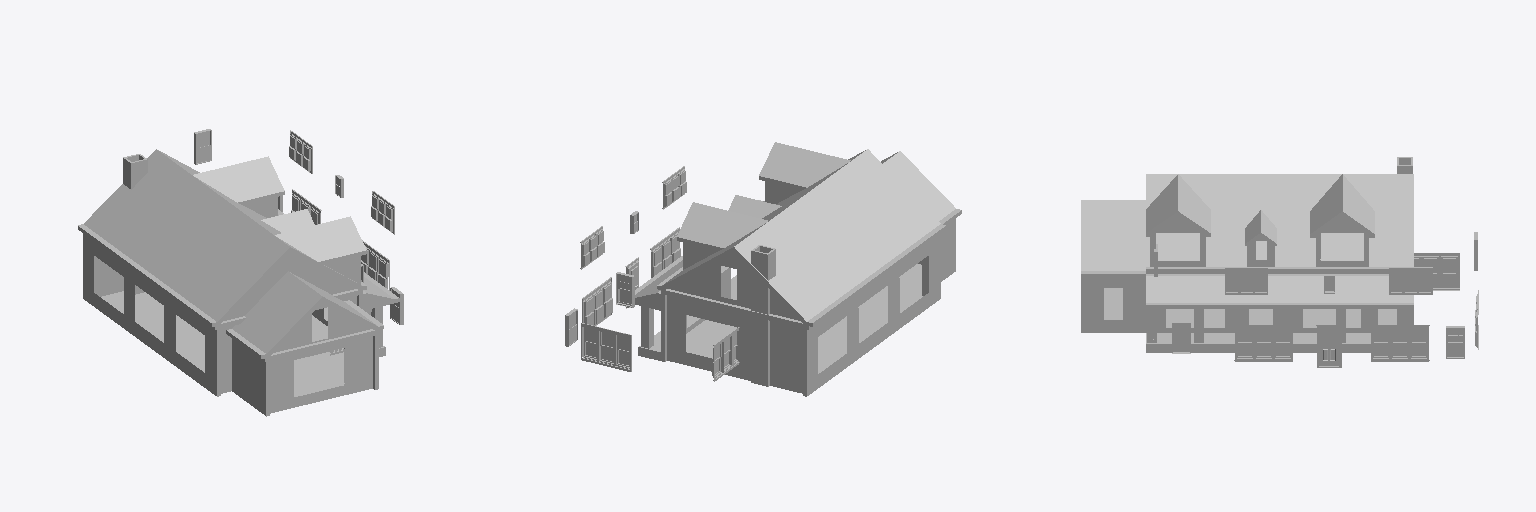
File: farmHouse.obj
The picture shows the model from 3 angles: view 1: azimuth 30°, elevation 25°; view 2: azimuth 150°, elevation 25°; view 3: azimuth 270°, elevation 25°; orthographic projection.
Parts seen in each view (by area): view 1: mesh6_mesh6-geometry, mesh2.003_mesh2-geometry, mesh2.002_mesh2-geometry, mesh2.001_mesh2-geometry; view 2: mesh6_mesh6-geometry, mesh2.009_mesh2-geometry, mesh2.004_mesh2-geometry, mesh2.006_mesh2-geometry, mesh2.003_mesh2-geometry, mesh2.001_mesh2-geometry, mesh2.002_mesh2-geometry; view 3: mesh6_mesh6-geometry, mesh2.004_mesh2-geometry, mesh2.003_mesh2-geometry, mesh2.006_mesh2-geometry, mesh2.002_mesh2-geometry, mesh2.001_mesh2-geometry, mesh1.001_mesh1-geometry.
Boxes of the visible parts, x1=… form: mesh6_mesh6-geometry: x1=78, y1=149, x2=399, y2=416; mesh2.003_mesh2-geometry: x1=361, y1=240, x2=389, y2=290; mesh2.002_mesh2-geometry: x1=289, y1=130, x2=312, y2=173; mesh2.001_mesh2-geometry: x1=371, y1=191, x2=394, y2=234; mesh6_mesh6-geometry: x1=635, y1=142, x2=961, y2=396; mesh2.009_mesh2-geometry: x1=581, y1=323, x2=631, y2=371; mesh2.004_mesh2-geometry: x1=582, y1=277, x2=612, y2=325; mesh2.006_mesh2-geometry: x1=712, y1=327, x2=739, y2=381; mesh2.003_mesh2-geometry: x1=650, y1=227, x2=680, y2=277; mesh2.001_mesh2-geometry: x1=662, y1=166, x2=686, y2=209; mesh2.002_mesh2-geometry: x1=580, y1=226, x2=604, y2=269; mesh6_mesh6-geometry: x1=1081, y1=157, x2=1413, y2=352; mesh2.004_mesh2-geometry: x1=1371, y1=325, x2=1429, y2=361; mesh2.003_mesh2-geometry: x1=1234, y1=325, x2=1292, y2=361; mesh2.006_mesh2-geometry: x1=1414, y1=253, x2=1459, y2=290; mesh2.002_mesh2-geometry: x1=1389, y1=267, x2=1432, y2=294; mesh2.001_mesh2-geometry: x1=1224, y1=267, x2=1268, y2=294; mesh1.001_mesh1-geometry: x1=1316, y1=325, x2=1341, y2=367.
Size of the model in its own units: 476 by 270 by 737.